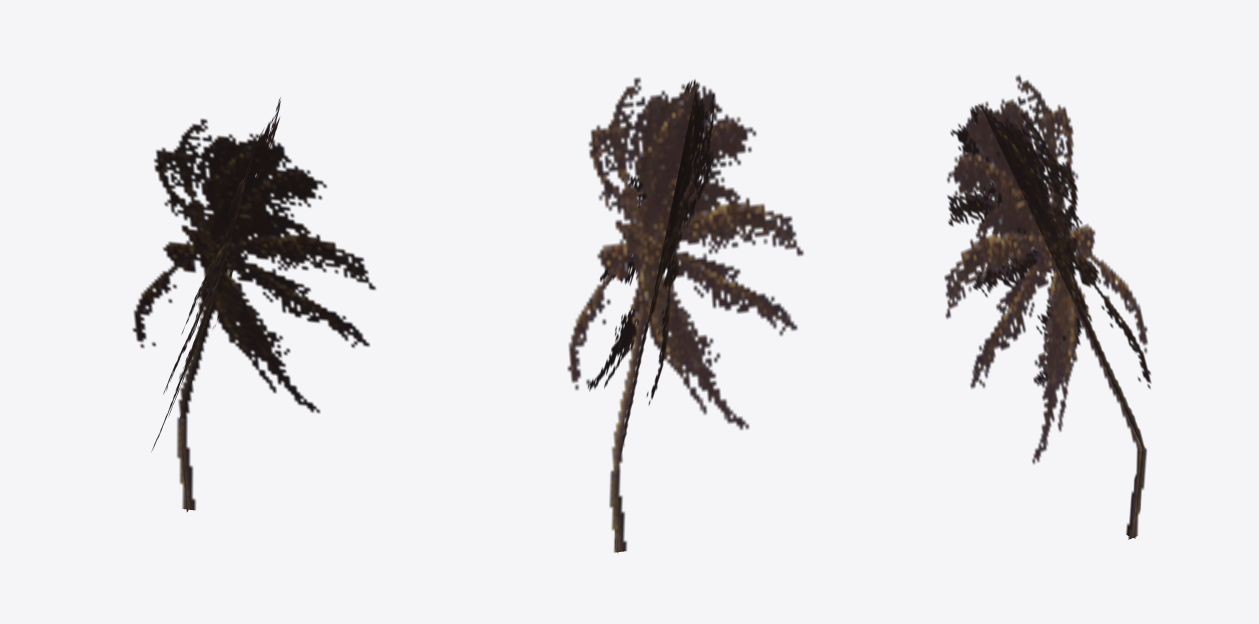
The model's file is tree041.glb.
The picture shows the model from 3 angles, left to right: view 1: azimuth 30°, elevation 25°; view 2: azimuth 150°, elevation 25°; view 3: azimuth 270°, elevation 25°; orthographic projection. The views are drawn at different scales.
Parts seen in each view (by area): view 1: tree041; view 2: tree041; view 3: tree041.
Boxes of the visible parts, bbox=[...] form: tree041: bbox=[132, 97, 375, 512]; tree041: bbox=[567, 77, 803, 553]; tree041: bbox=[944, 75, 1151, 539].
Bounding box in the file's own units: 3.76 × 5.09 × 3.74.
Materials: 1 (1 with a texture image).
